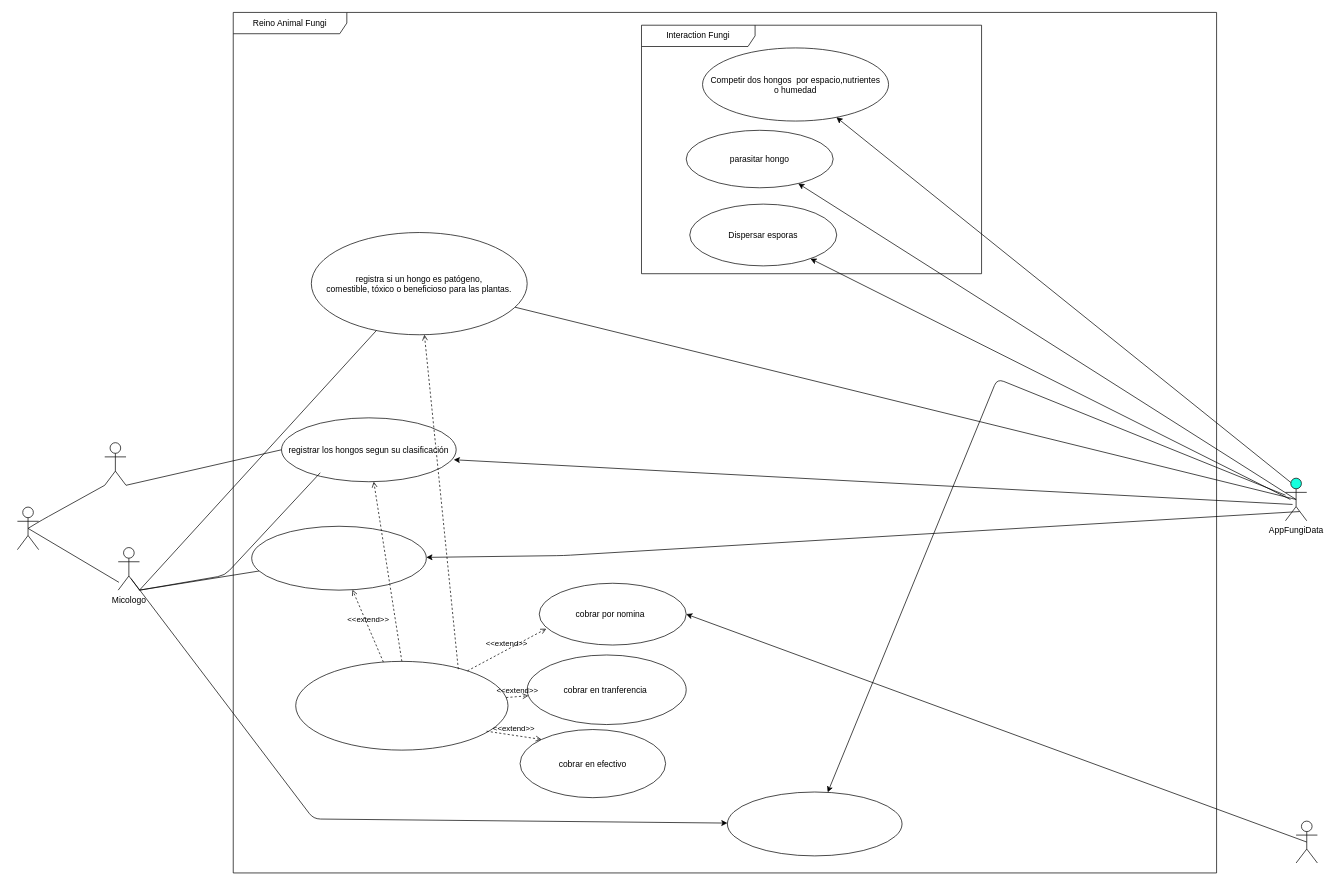
Some shapes in this 1336 by 890 pixel diagram are drawn without their labels. The shapes that lost their labels are listed below. From the top down, each one's centre as x and y in pixels, then its label:
At point 115,463: "Dueño".
At point 28,528: "Persona".
At point 338,558: "recolectar hongos".
At point 401,705: "Facturar por servicios prestados".
At point 814,823: "entrar con CI y contraseña , si se olvida credenciales poder recuperar acceso".
At point 1306,841: "Banco".
